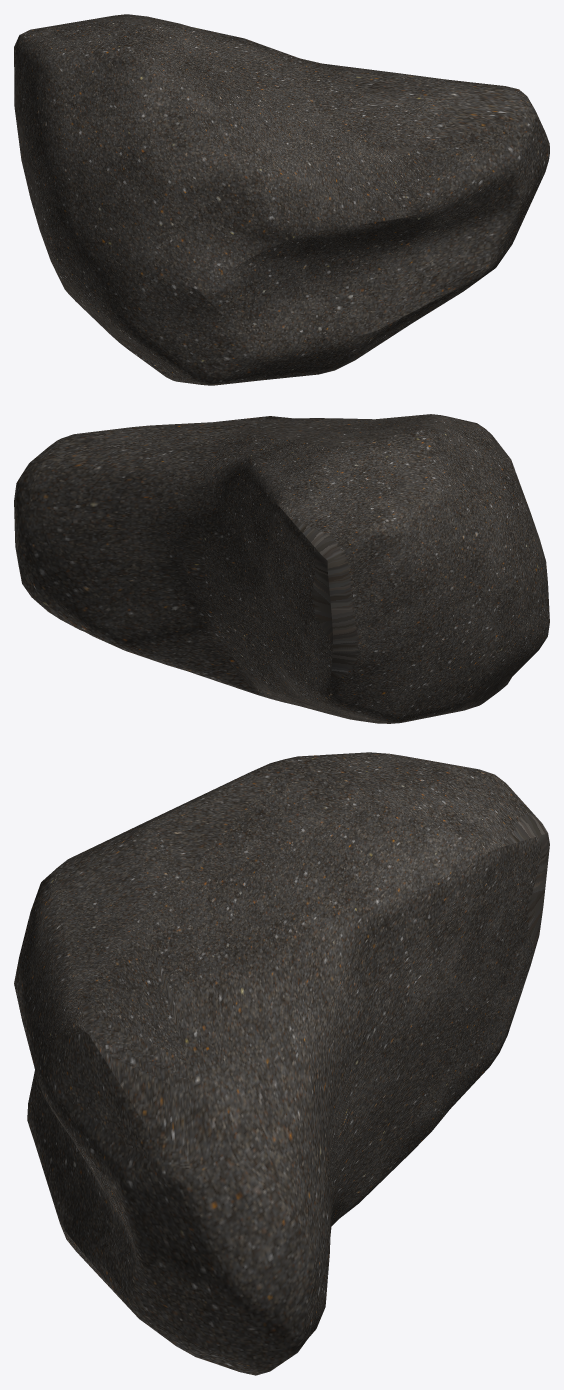
Rendered from rock_4.fbx.
The picture shows the model from 3 angles, top to bottom: view 1: azimuth 30°, elevation 25°; view 2: azimuth 150°, elevation 25°; view 3: azimuth 270°, elevation 25°; orthographic projection. The views are drawn at different scales.
Parts seen in each view (by area): view 1: pPlatonic16; view 2: pPlatonic16; view 3: pPlatonic16.
Part boxes in pixels (x1,y1,x2,y2): pPlatonic16: (14, 14, 549, 385); pPlatonic16: (14, 414, 549, 723); pPlatonic16: (14, 752, 549, 1375).
Bounding box in the file's own units: 3.12 × 1.89 × 2.18.
1 material, 1 textured.
